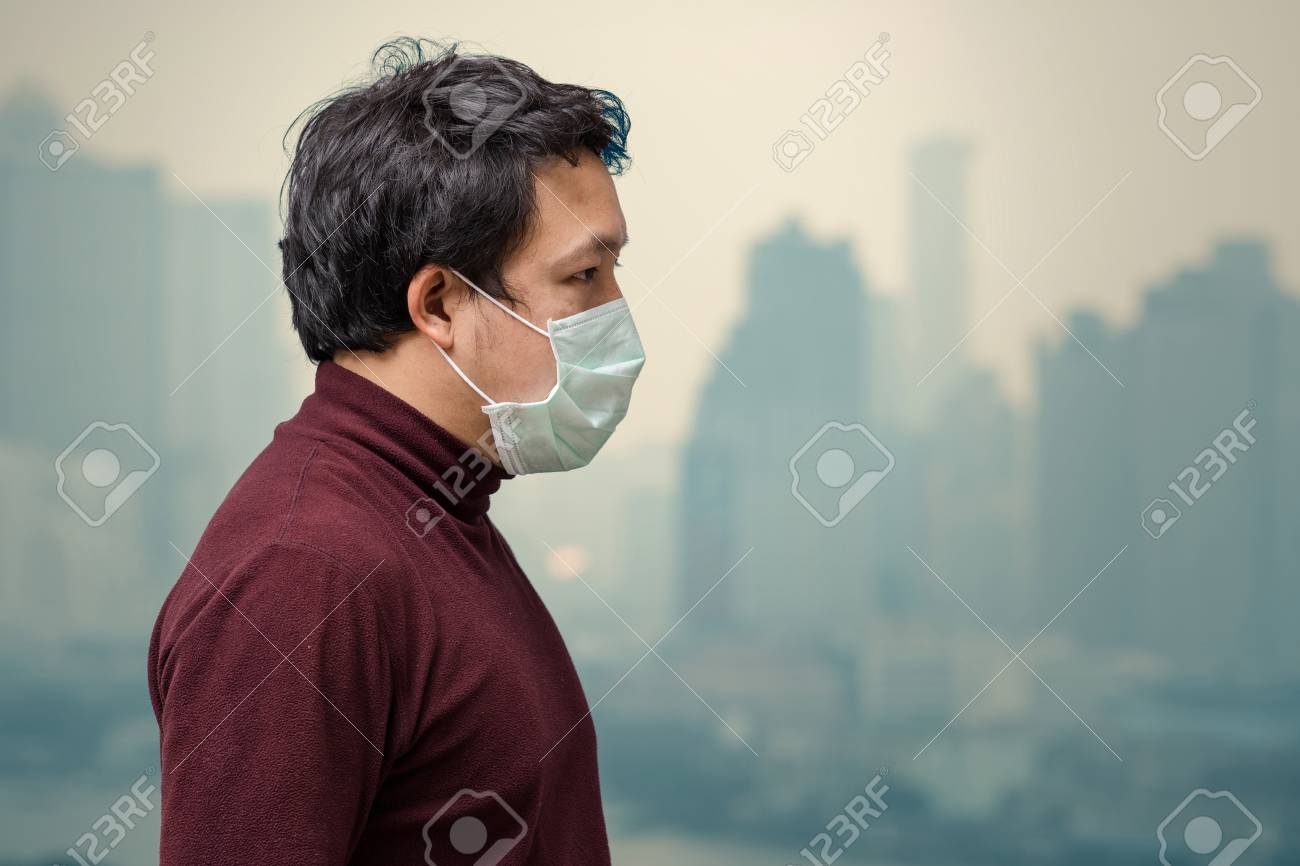with_mask: (317, 55, 688, 543)
